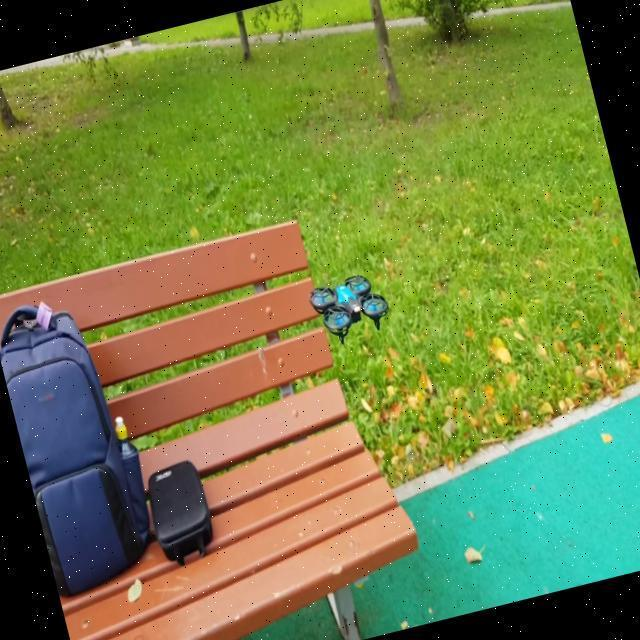Drons: (303, 266, 397, 349)
